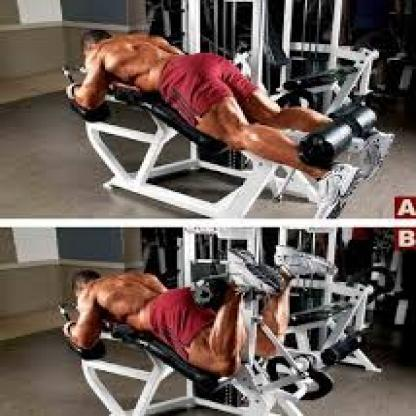reg curl machine: (61, 25, 390, 220), (54, 247, 380, 416)
